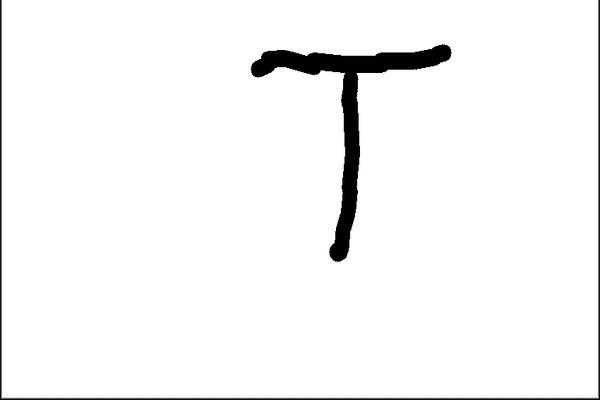T: (247, 35, 453, 264)
